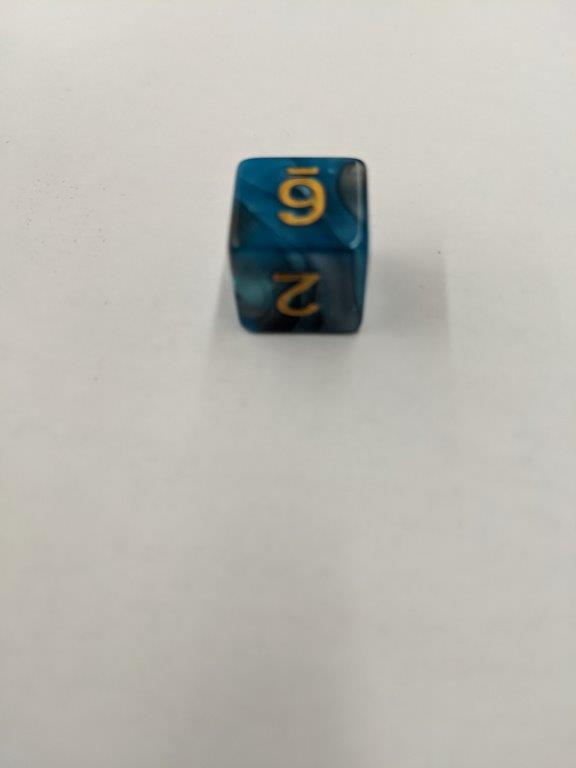d6-6: (223, 155, 369, 345)
